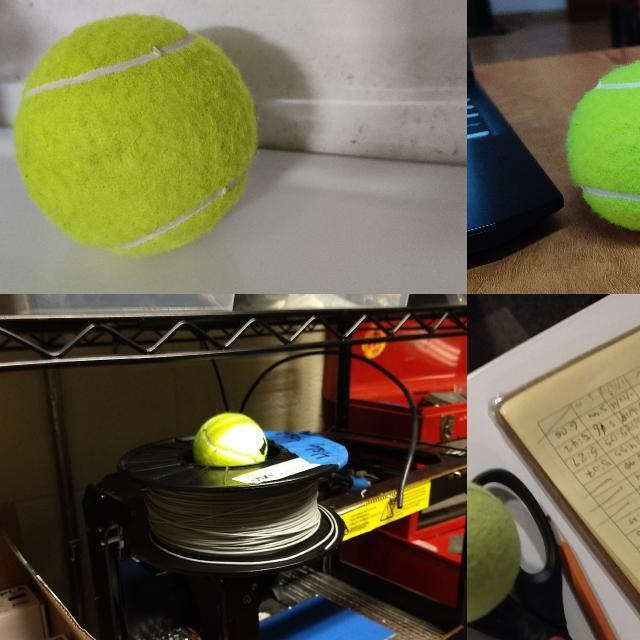tennis-ball: (8, 10, 262, 258), (566, 60, 639, 230), (467, 477, 522, 626), (193, 412, 268, 457)
